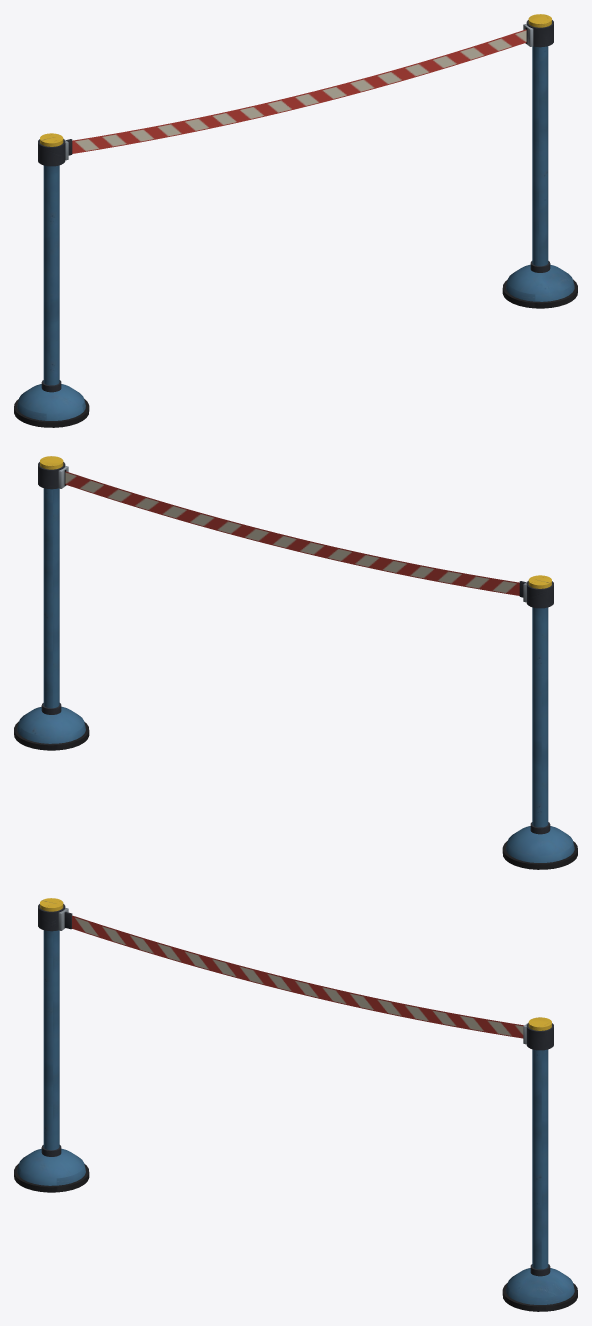
Rendered from barrier_tape.glb.
3 renders of one model, top to bottom at view 1: azimuth 30°, elevation 25°; view 2: azimuth 150°, elevation 25°; view 3: azimuth 330°, elevation 25°, orthographic.
Parts seen in each view (by area): view 1: BarrierTapeMesh; view 2: BarrierTapeMesh; view 3: BarrierTapeMesh.
Boxes of the visible parts, x1,y1,x2,y2 form: BarrierTapeMesh: [14, 14, 577, 427]; BarrierTapeMesh: [14, 456, 577, 869]; BarrierTapeMesh: [14, 898, 577, 1311].
Bounding box in the file's own units: 1.95 × 0.92 × 0.23.
Materials: 7 (6 with a texture image).
